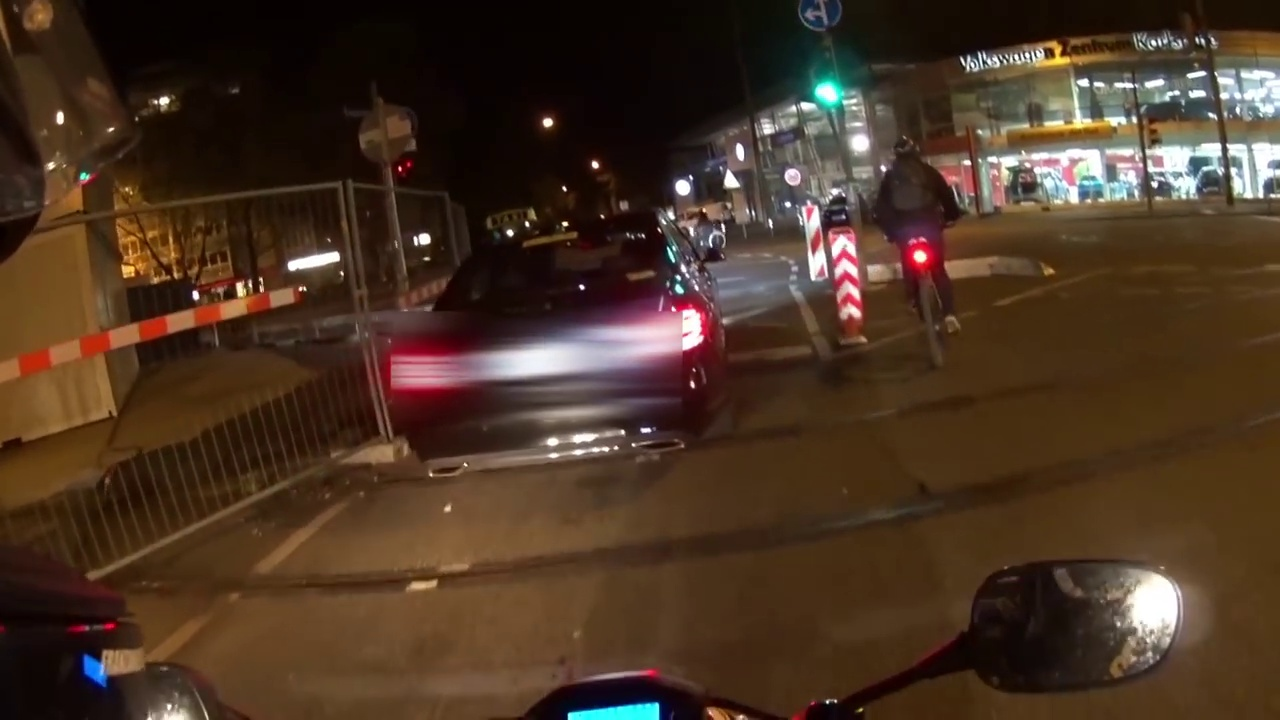cyclist_back: (874, 129, 970, 379)
